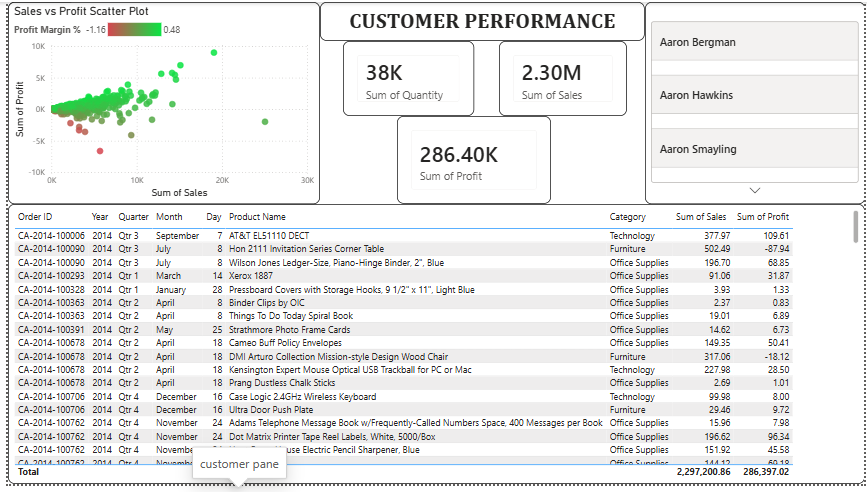

What the dashboard file says about the page in this screenshot:
{"tool":"powerbi","page":{"name":"customer pane","canvas":[1280,720],"ordinal":2},"visuals":[{"type":"actionButton","box":[0,0,100,40],"z":0},{"type":"cardVisual","fields":{"Rows":["Superstore.Customer Name"]},"box":[951.5,0,328.6,301.7],"z":1000},{"type":"cardVisual","fields":{"Data":["Sum(Superstore.Sales)"]},"box":[733.4,58.3,191.2,112],"z":2000},{"type":"cardVisual","fields":{"Data":["Sum(Superstore.Profit)"]},"box":[581.1,170.3,230,131.5],"z":3000},{"type":"cardVisual","fields":{"Data":["Sum(Superstore.Quantity)"]},"box":[500.4,58.3,195.7,112],"z":4000},{"type":"tableEx","fields":{"Values":["Superstore.Order ID","Superstore.Order Date.Variation.Date Hierarchy.Year","Superstore.Order Date.Variation.Date Hierarchy.Quarter","Superstore.Order Date.Variation.Date Hierarchy.Month","Superstore.Order Date.Variation.Date Hierarchy.Day","Superstore.Product Name","Superstore.Category","Sum(Superstore.Sales)","Sum(Superstore.Profit)"]},"box":[0,301.7,1280.2,418.3],"z":5000},{"type":"scatterChart","title":"Sales vs Profit Scatter Plot","fields":{"X":["Sum(Superstore.Sales)"],"Y":["Sum(Superstore.Profit)"],"Category":["Superstore.Customer Name"]},"box":[0,0,466.1,301.7],"z":6000},{"type":"textbox","box":[466.1,0,485.5,58.3],"z":6001}]}

Visuals, with their boxes in screenshot pixels (x1, y1, x2, y2):
actionButton: [left=5, top=0, right=71, bottom=27]
cardVisual - Superstore.Customer Name: [left=640, top=0, right=860, bottom=202]
cardVisual - Sum(Superstore.Sales): [left=494, top=39, right=622, bottom=114]
cardVisual - Sum(Superstore.Profit): [left=393, top=114, right=546, bottom=202]
cardVisual - Sum(Superstore.Quantity): [left=339, top=39, right=470, bottom=114]
tableEx - Superstore.Order ID x Superstore.Order Date.Variation.Date Hierarchy.Year: [left=5, top=202, right=860, bottom=481]
"Sales vs Profit Scatter Plot" scatterChart: [left=5, top=0, right=316, bottom=202]
textbox: [left=316, top=0, right=640, bottom=39]
